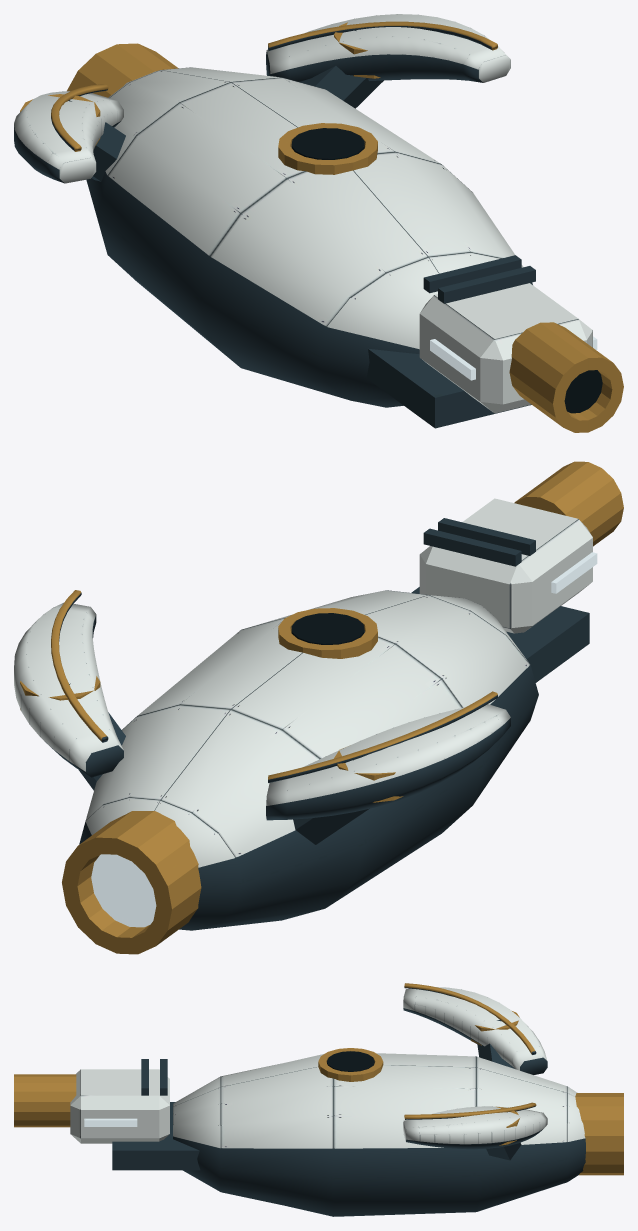
File: pioneer-europa-l01-laser.glb
3 views of the same model, one above another, from view 1: azimuth 30°, elevation 25°; view 2: azimuth 150°, elevation 25°; view 3: azimuth 270°, elevation 25° (orthographic). The views are drawn at different scales.
Parts seen in each view (by area): view 1: Drone; view 2: Drone; view 3: Drone.
Boxes of the visible parts, box(x1,y1,x2,y2) form: Drone: box(14, 14, 623, 432); Drone: box(14, 461, 623, 954); Drone: box(14, 983, 623, 1216).
Bounding box in the file's own units: 0.7866 × 0.3952 × 1.41.
Materials: 3 (3 with a texture image).
